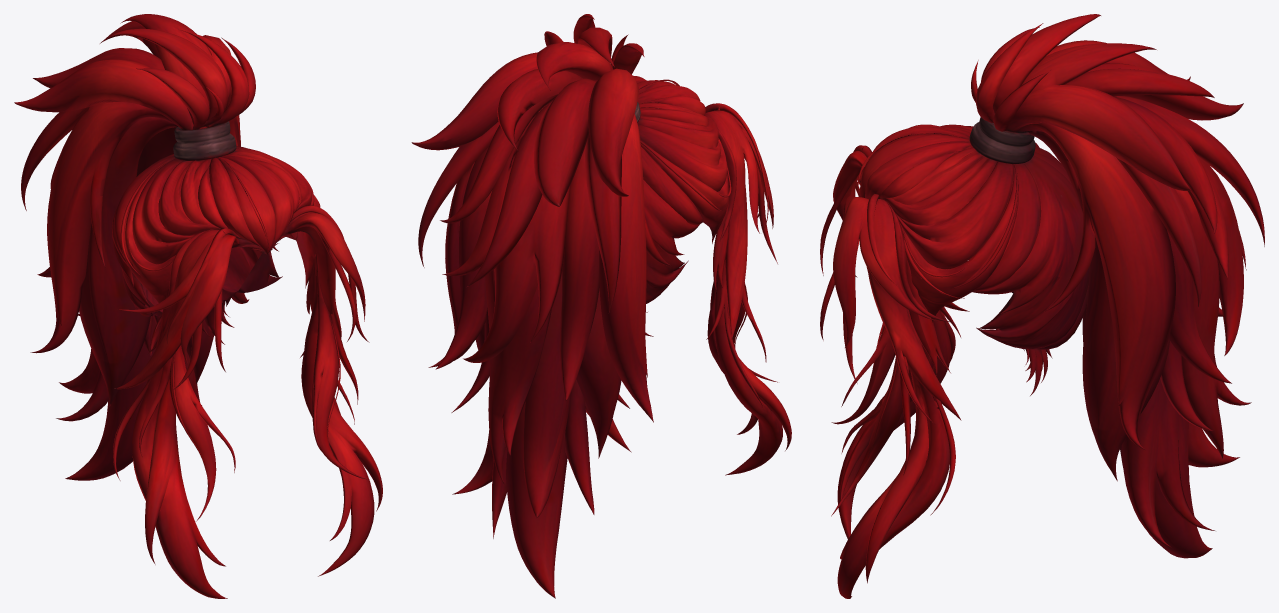
The model's file is hair-01-asis.glb.
3 renders of one model, left to right at view 1: azimuth 30°, elevation 25°; view 2: azimuth 150°, elevation 25°; view 3: azimuth 270°, elevation 25°, orthographic. The views are drawn at different scales.
Parts seen in each view (by area): view 1: Hair_01; view 2: Hair_01; view 3: Hair_01.
Boxes of the visible parts, <box> form: Hair_01: <box>14,14,382,598</box>; Hair_01: <box>411,14,791,598</box>; Hair_01: <box>820,14,1264,598</box>.
Size of the model in its own units: 0.3625 by 0.7225 by 0.5326.
1 material, 1 textured.
